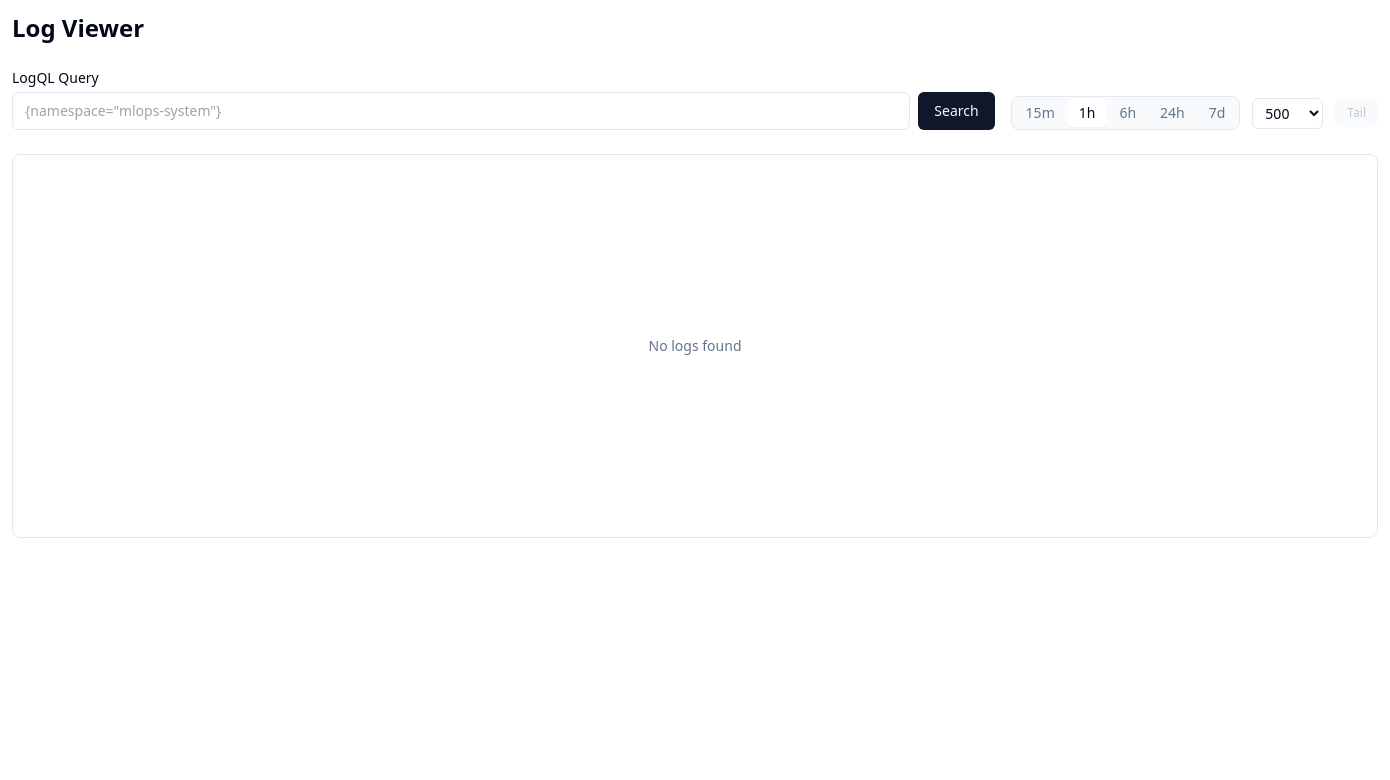
Test case: LogViewerPage › submits query on Enter key
This screenshot has width=1390, height=780.
In the field labelled "LogQL Query": (461, 111) [12,92,910,130], type "test_query"
Then press Enter
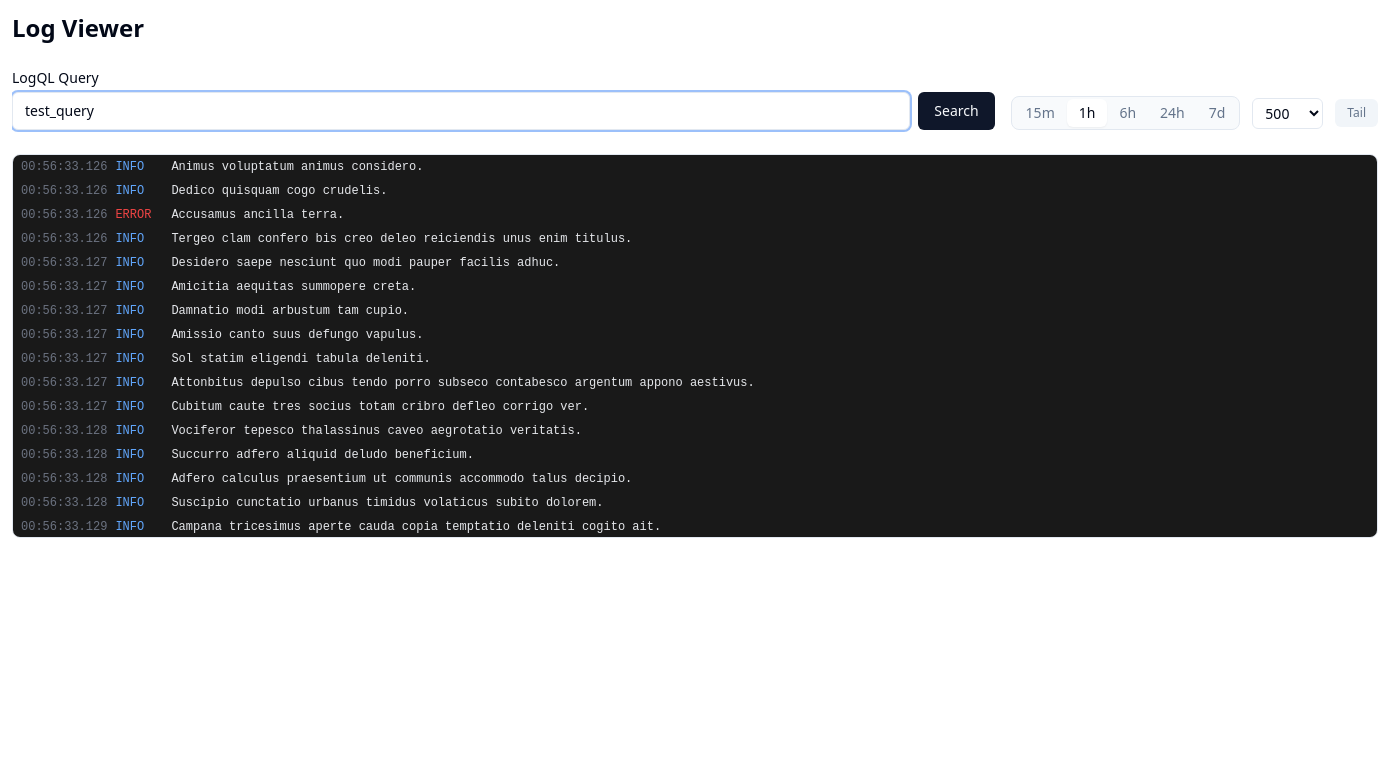
Now the text "No logs found" is gone
